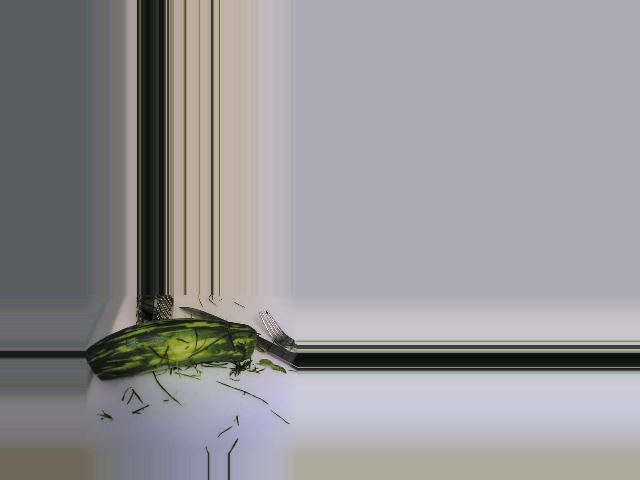cucumber: (86, 318, 257, 381)
